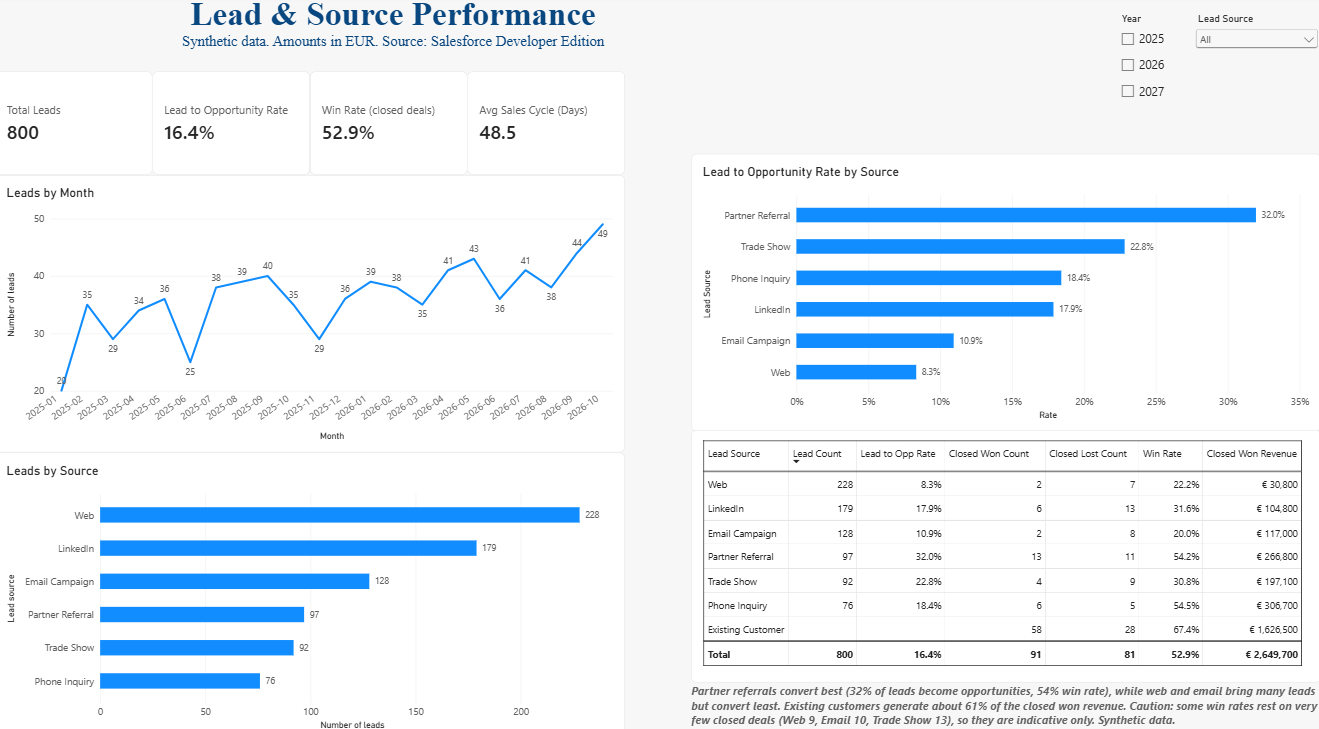

The dashboard page shown, as its layout file describes it:
{"tool":"powerbi","page":{"name":"Lead & Source Performance","canvas":[1920,1080],"ordinal":1},"visuals":[{"type":"textbox","box":[10.9,0,1131,110.4],"z":0},{"type":"slicer","fields":{"Values":["DimDate.Year"]},"box":[1623.3,25.3,110,260],"z":1000},{"type":"slicer","fields":{"Values":["DimLeadSource.Lead Source"]},"box":[1733.7,25.3,186.4,130.3],"z":2000},{"type":"cardVisual","fields":{"Data":["_Measures.Lead Count"]},"box":[0,110.4,228.3,150],"z":3000},{"type":"cardVisual","fields":{"Data":["_Measures.Lead to Opp Rate"]},"box":[228,110.4,228,150],"z":4000},{"type":"cardVisual","fields":{"Data":["_Measures.Win Rate"]},"box":[456,110.4,228,150],"z":5000},{"type":"cardVisual","fields":{"Data":["_Measures.Avg Sales Cycle Days"]},"box":[684.1,110.4,228,150],"z":6000},{"type":"lineChart","title":"Leads by Month","fields":{"Category":["DimDate.YearMonth"],"Y":["_Measures.Lead Count"]},"box":[0,260.6,912.1,401.7],"z":7000},{"type":"clusteredBarChart","title":"Leads by Source","fields":{"Category":["DimLeadSource.Lead Source"],"Y":["_Measures.Lead Count"]},"box":[0,662.3,912.1,418],"z":8000},{"type":"clusteredBarChart","title":"Lead to Opportunity Rate by Source","fields":{"Category":["DimLeadSource.Lead Source"],"Y":["_Measures.Lead to Opp Rate"]},"box":[1007.9,229.8,912.1,401.7],"z":9000},{"type":"tableEx","title":"Source Scorecard","fields":{"Values":["DimLeadSource.Lead Source","_Measures.Lead Count","_Measures.Lead to Opp Rate","_Measures.Closed Won Count","_Measures.Closed Lost Count","_Measures.Win Rate","_Measures.Closed Won Revenue"]},"box":[1007.9,629.8,912.1,365.6],"z":10000},{"type":"textbox","box":[1008,995.3,912.1,85.1],"z":11000}]}

Visuals, with their boxes in screenshot pixels (x1, y1, x2, y2), scaled from the page's 1920x1080 canvas onto the 1319x729 screenshot:
textbox: 7 0 784 75
slicer - DimDate.Year: 1115 17 1191 193
slicer - DimLeadSource.Lead Source: 1191 17 1318 105
cardVisual - _Measures.Lead Count: 0 75 157 176
cardVisual - _Measures.Lead to Opp Rate: 157 75 313 176
cardVisual - _Measures.Win Rate: 313 75 470 176
cardVisual - _Measures.Avg Sales Cycle Days: 470 75 627 176
"Leads by Month" lineChart: 0 176 627 447
"Leads by Source" clusteredBarChart: 0 447 627 728
"Lead to Opportunity Rate by Source" clusteredBarChart: 692 155 1318 426
"Source Scorecard" tableEx: 692 425 1318 672
textbox: 692 672 1318 728
